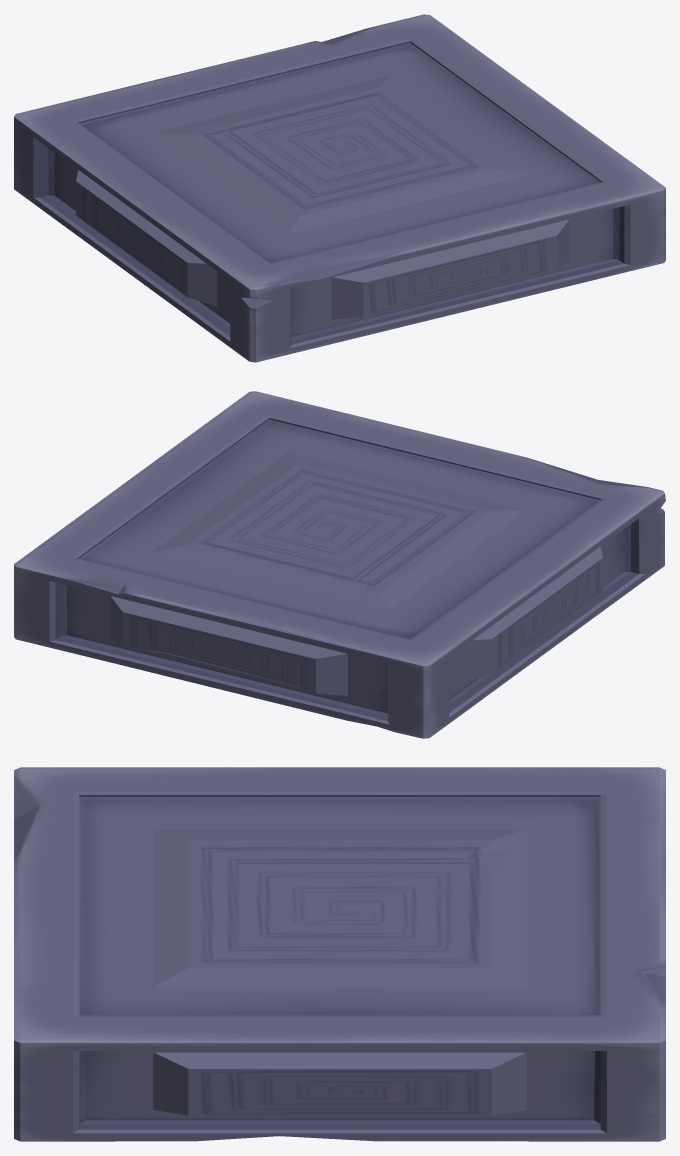
The model's file is PlatePlaceholder.fbx.
3 renders of one model, top to bottom at view 1: azimuth 30°, elevation 25°; view 2: azimuth 150°, elevation 25°; view 3: azimuth 270°, elevation 25°, orthographic. The views are drawn at different scales.
Visible parts, largest first — view 1: plate; view 2: plate; view 3: plate.
Boxes of the visible parts, x1=… form: plate: x1=14, y1=14, x2=665, y2=362; plate: x1=14, y1=391, x2=665, y2=738; plate: x1=14, y1=767, x2=665, y2=1141.
Size of the model in its own units: 3 by 0.5102 by 3.
